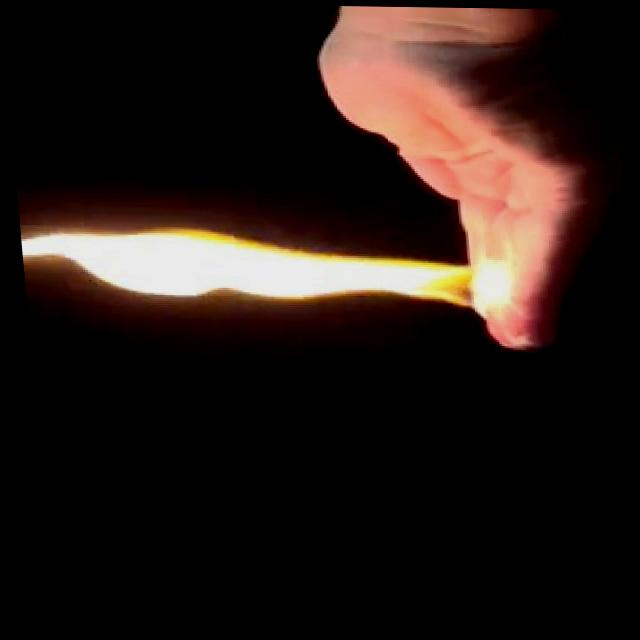Fire: (14, 205, 517, 324)
